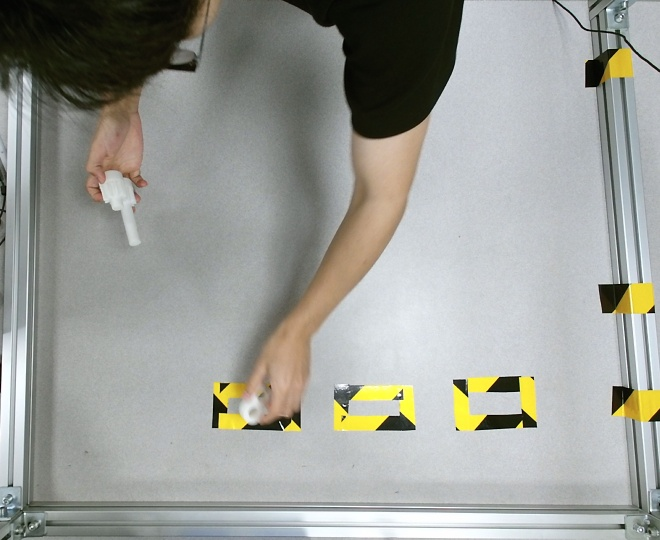stage_3: (98, 170, 140, 249)
